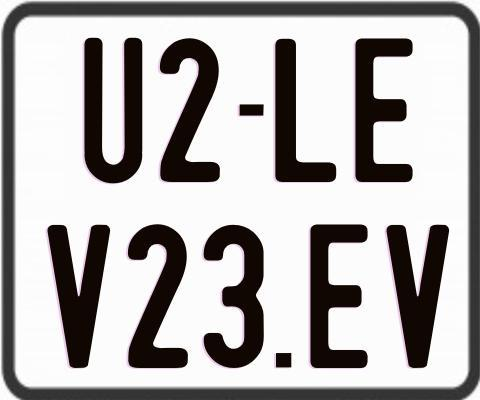2: (159, 36, 225, 182), (128, 222, 192, 368)
3: (201, 222, 263, 368)
E: (353, 38, 417, 186), (308, 224, 367, 372)
L: (274, 36, 336, 184)
U: (84, 35, 145, 182)
V: (385, 222, 454, 371), (45, 223, 109, 372)
